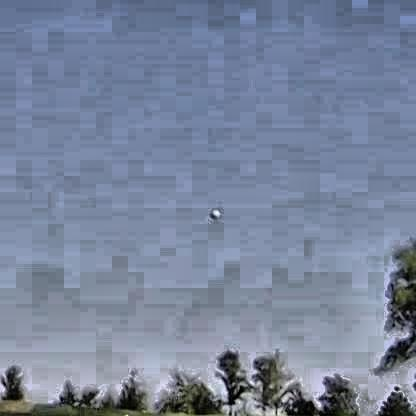golfball: (207, 206, 217, 217)
